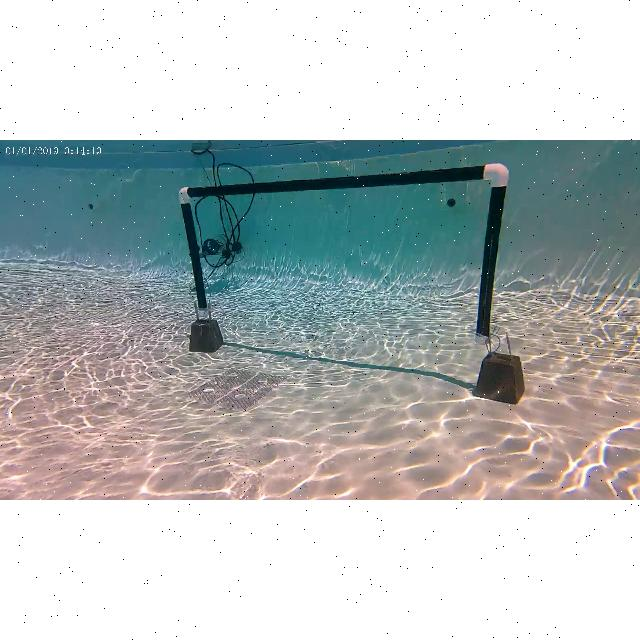prequal gate: (178, 160, 508, 344)
prequal gate leg l: (176, 185, 214, 322)
prequal gate leg r: (473, 157, 511, 350)
